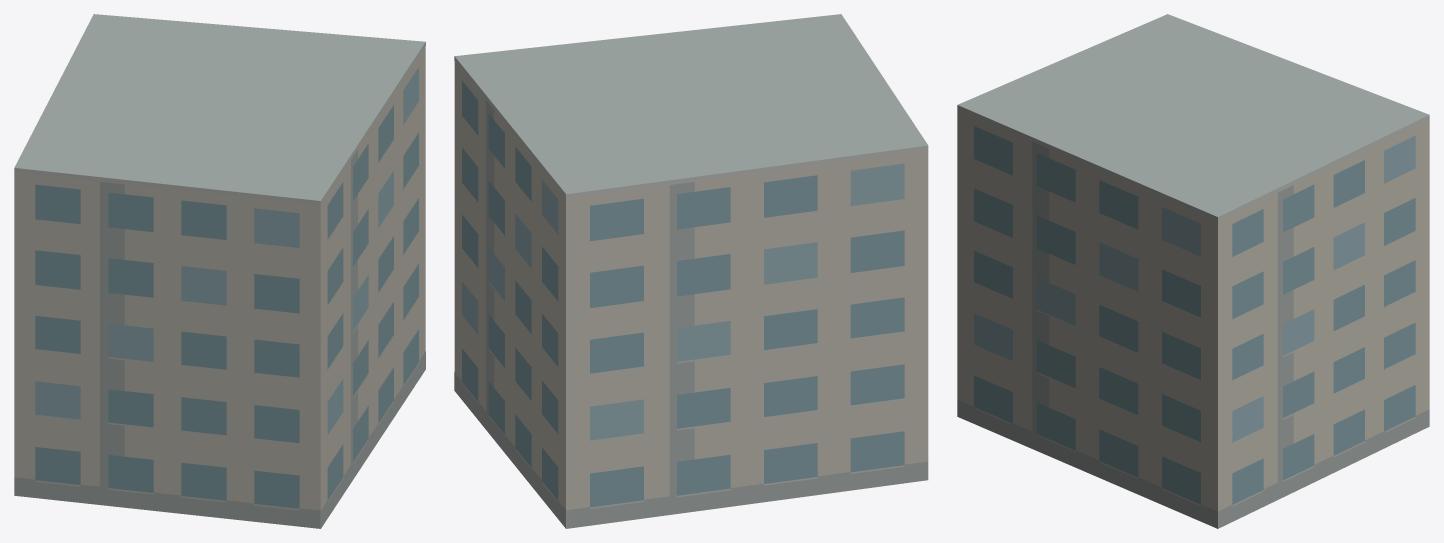
File: survey-upis-32642685.glb
3 views of the same model, side by side, from view 1: azimuth 30°, elevation 25°; view 2: azimuth 150°, elevation 25°; view 3: azimuth 270°, elevation 25° (orthographic). The views are drawn at different scales.
Visible parts, largest first — view 1: survey-upis-32642685.tmp; view 2: survey-upis-32642685.tmp; view 3: survey-upis-32642685.tmp.
Part boxes in pixels (<box>): survey-upis-32642685.tmp: <box>14,14,425,528</box>; survey-upis-32642685.tmp: <box>454,14,928,528</box>; survey-upis-32642685.tmp: <box>957,14,1429,528</box>.
Bounding box in the file's own units: 23.76 × 17 × 23.35.
